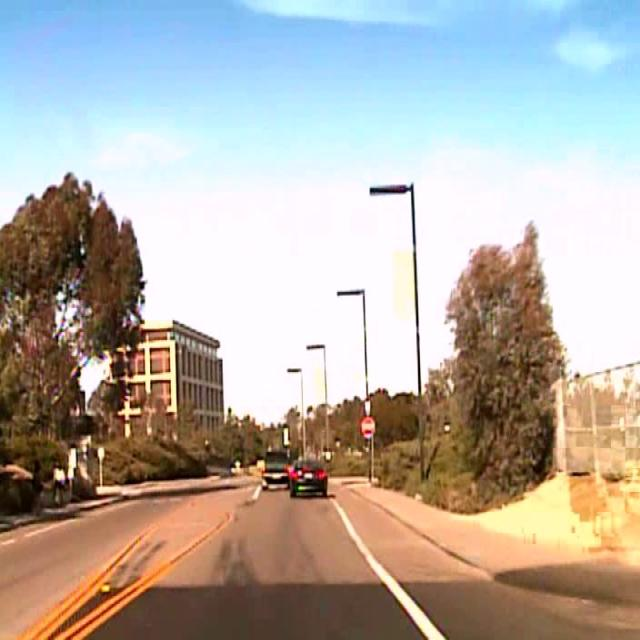stop_sign: (361, 415, 374, 437)
